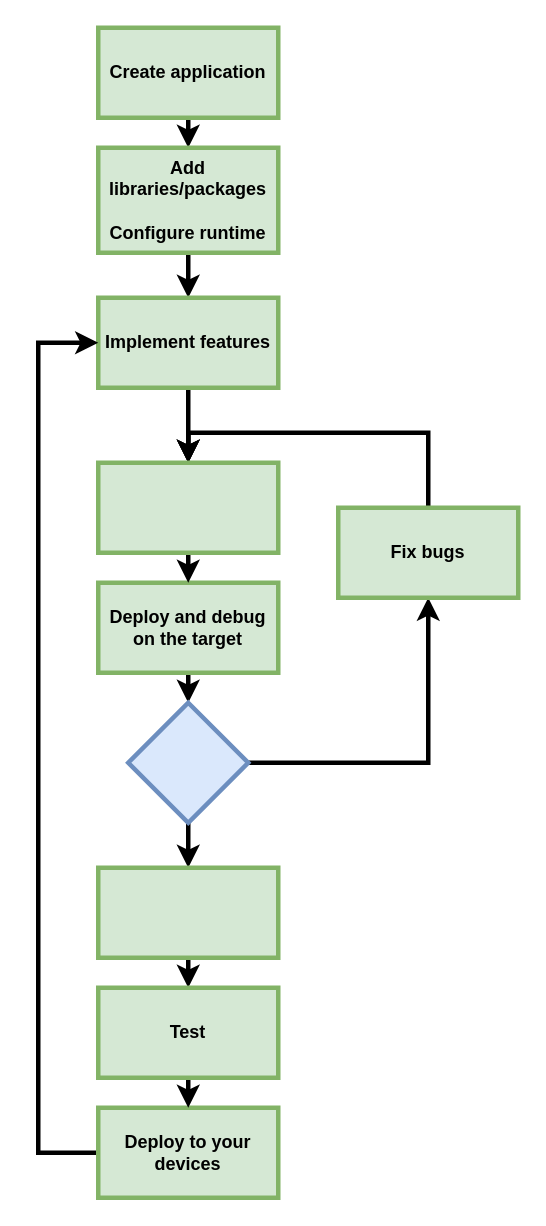
Image size: 546x1226. Some labels were removed from this diagram. The centre of each missing label's shape, as x and y in pixels:
Build code: the point at 187,507
It works?: the point at 187,762
Package your application as a container: the point at 187,912
